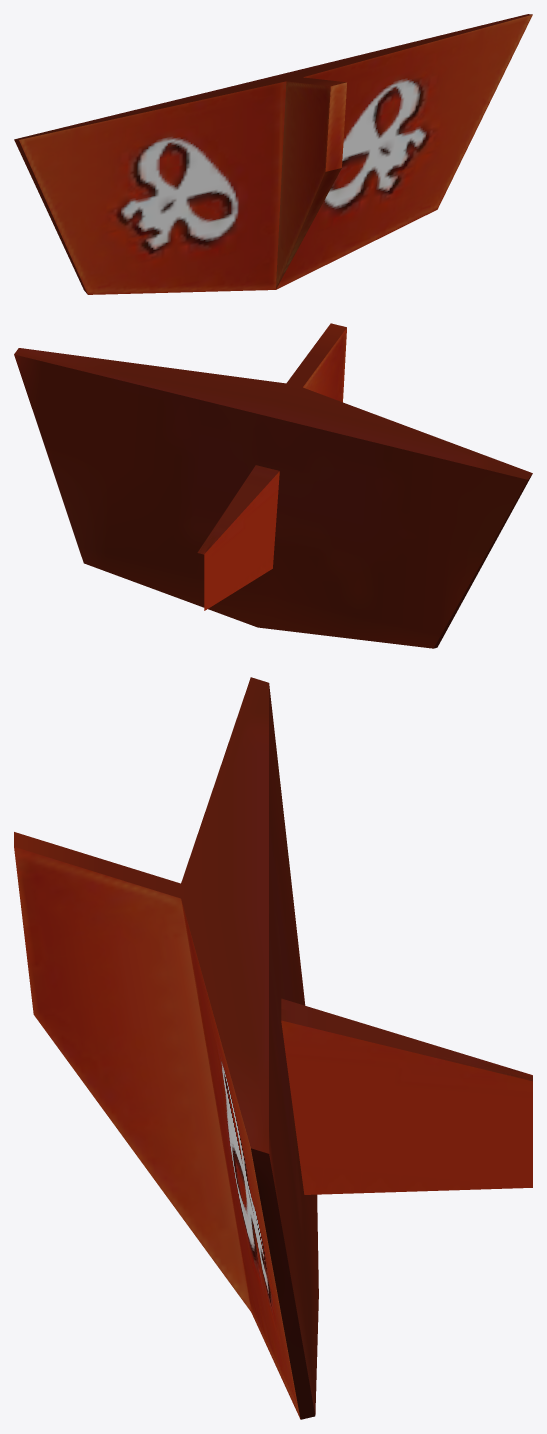
Rendered from Kart 6 Spoiler.glb.
3 renders of one model, top to bottom at view 1: azimuth 30°, elevation 25°; view 2: azimuth 150°, elevation 25°; view 3: azimuth 270°, elevation 25°, orthographic. The views are drawn at different scales.
Visible parts, largest first — view 1: spoiler; view 2: spoiler; view 3: spoiler.
Boxes of the visible parts, x1,y1,x2,y2 form: spoiler: (14,14,532,294); spoiler: (14,323,532,648); spoiler: (14,677,532,1419).
Size of the model in its own units: 1.81 by 0.8455 by 0.8409.
Materials: 1 (1 with a texture image).
